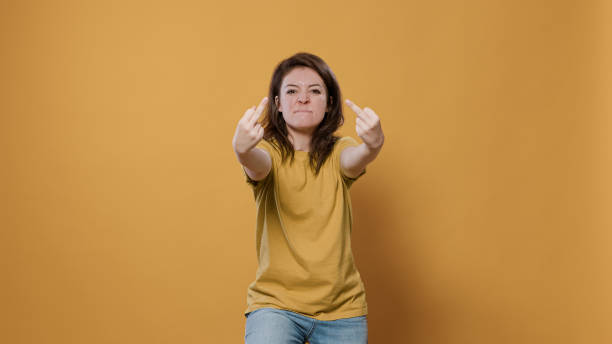insulting_gesture: (344, 95, 387, 155), (232, 91, 269, 157)
